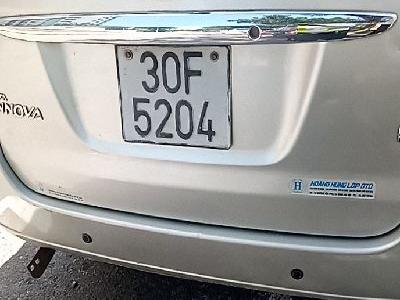lisence: (114, 42, 237, 152)
